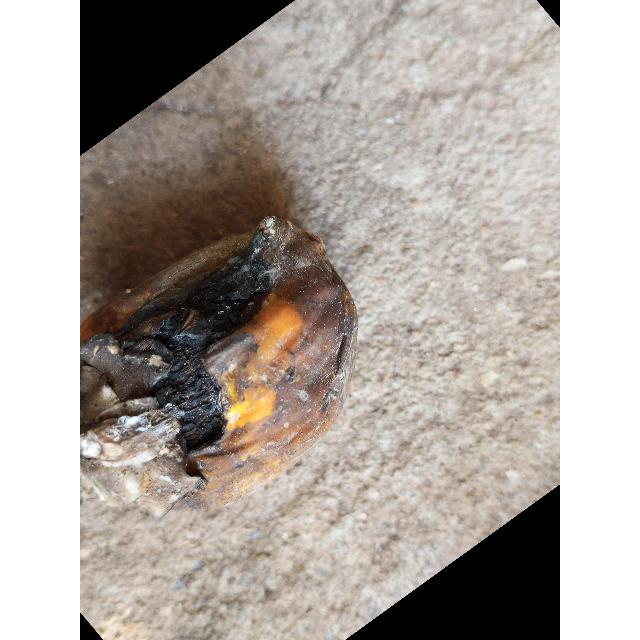damaged: (80, 218, 357, 523)
